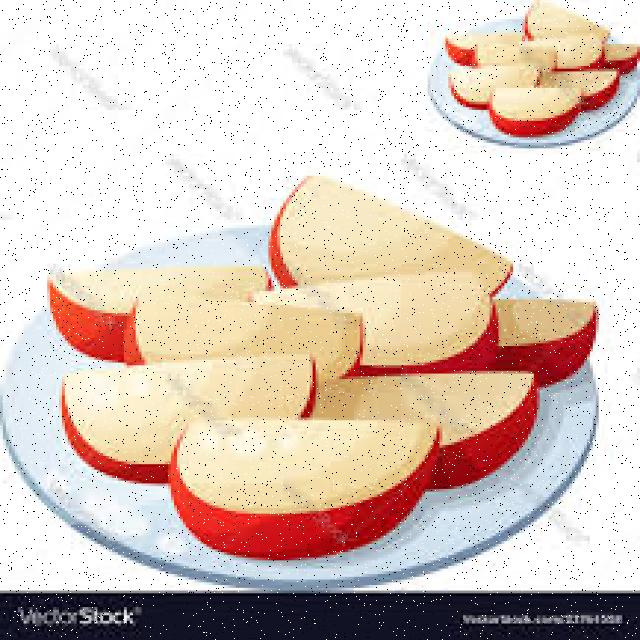Apple: (168, 411, 444, 549), (272, 174, 511, 293), (57, 361, 296, 478), (130, 298, 368, 378), (409, 372, 546, 478), (42, 267, 158, 349), (370, 297, 499, 368), (502, 293, 604, 367), (488, 88, 586, 136), (521, 9, 612, 38), (442, 66, 531, 93), (479, 42, 557, 70), (540, 39, 620, 66), (550, 73, 624, 100), (447, 32, 487, 64)
